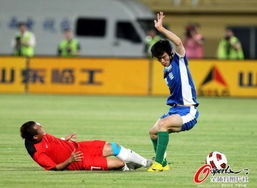falling: (18, 112, 154, 173)
